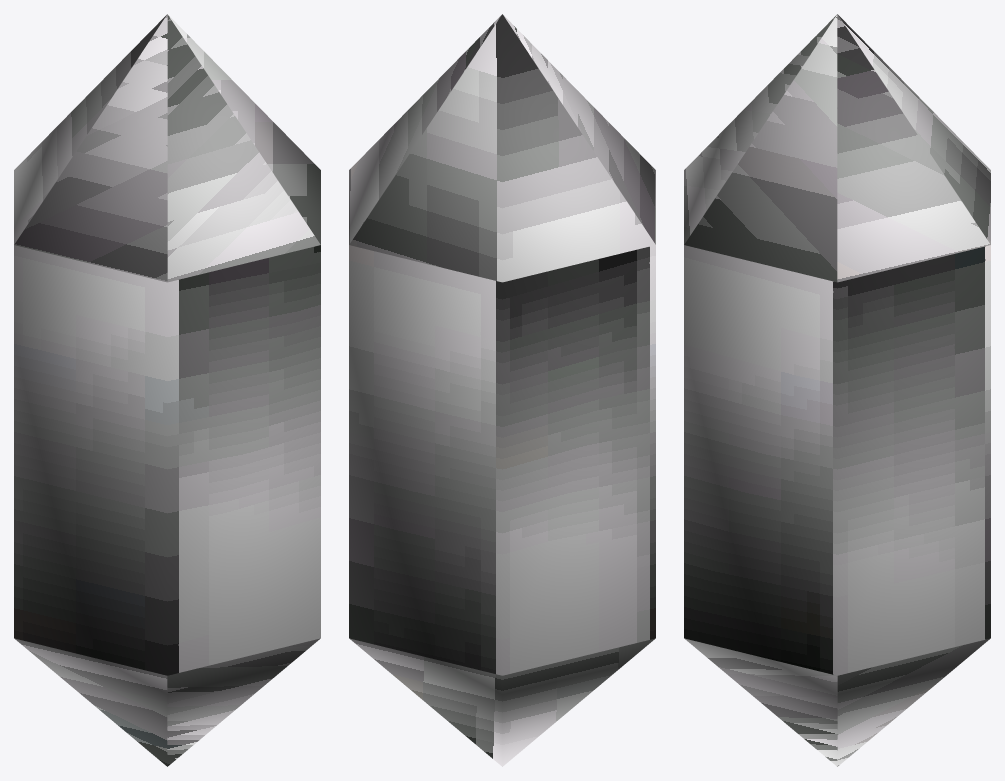
File: INST_TROLLHOLE_CRYSTALA.fbx
3 renders of one model, left to right at view 1: azimuth 30°, elevation 25°; view 2: azimuth 150°, elevation 25°; view 3: azimuth 270°, elevation 25°, orthographic.
Parts seen in each view (by area): view 1: INST_TROLLHOLE_CRYSTALA; view 2: INST_TROLLHOLE_CRYSTALA; view 3: INST_TROLLHOLE_CRYSTALA.
Part boxes in pixels (<box>): INST_TROLLHOLE_CRYSTALA: <box>14,14,320,766</box>; INST_TROLLHOLE_CRYSTALA: <box>349,14,655,766</box>; INST_TROLLHOLE_CRYSTALA: <box>684,14,990,766</box>.
Bounding box in the file's own units: 2555 × 5993 × 2213.
1 material, 1 textured.
